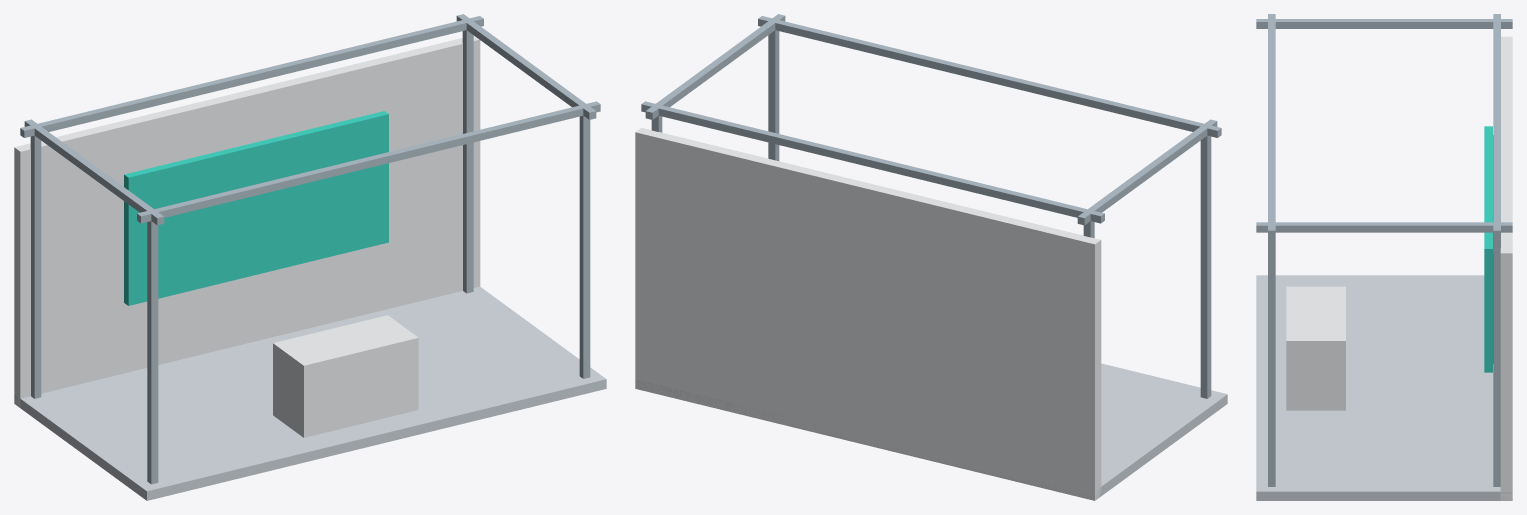
3 views of the same model, side by side, from view 1: azimuth 30°, elevation 25°; view 2: azimuth 150°, elevation 25°; view 3: azimuth 270°, elevation 25° (orthographic). The views are drawn at different scales.
Parts seen in each view (by area): view 1: Exhibition Booth Concept; view 2: Exhibition Booth Concept; view 3: Exhibition Booth Concept.
Boxes of the visible parts, bbox=[...] form: Exhibition Booth Concept: bbox=[14, 14, 606, 500]; Exhibition Booth Concept: bbox=[635, 14, 1227, 500]; Exhibition Booth Concept: bbox=[1256, 14, 1512, 500].
Size of the model in its own units: 6 by 3.49 by 3.
